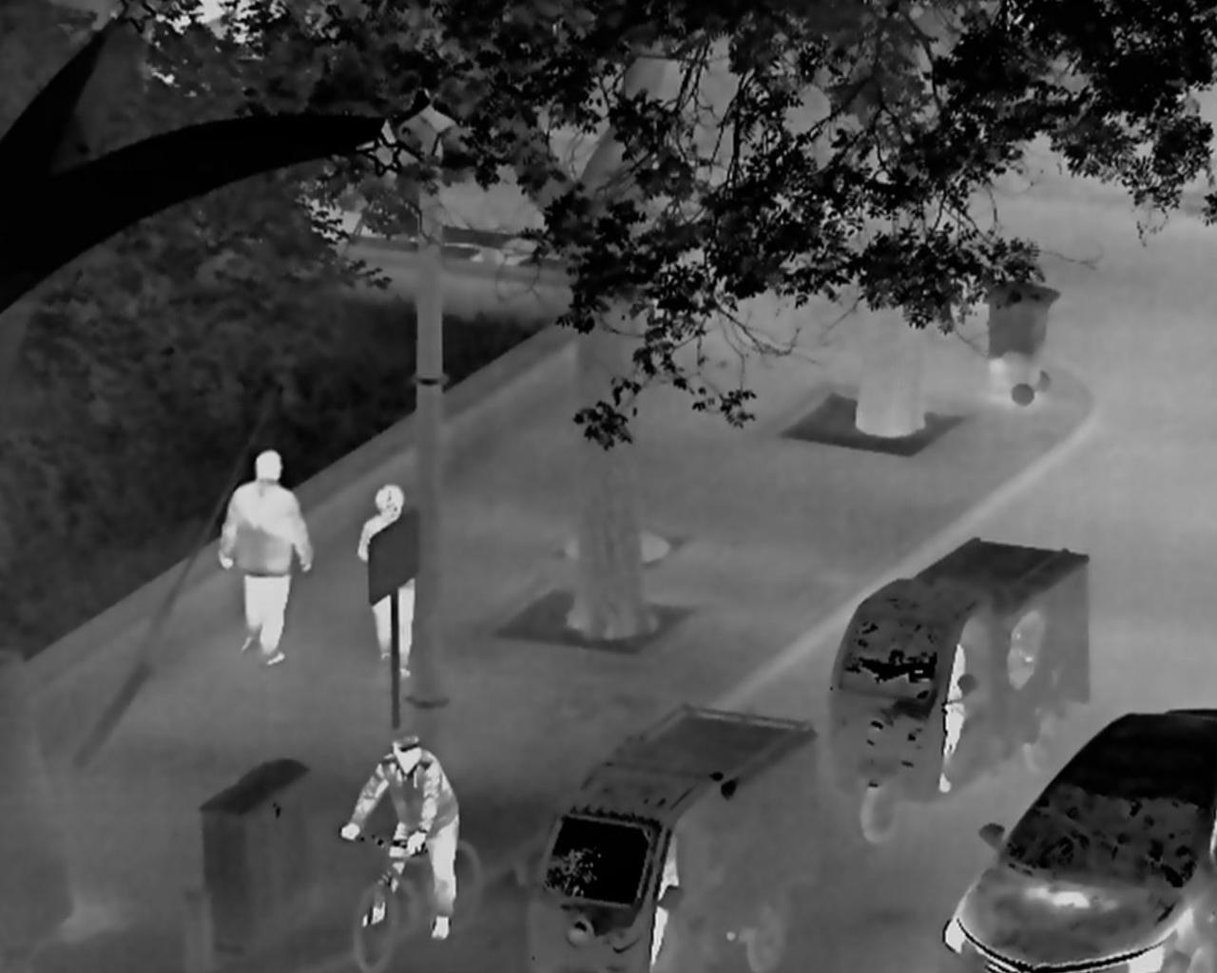person: (339, 729, 461, 940), (219, 448, 313, 666), (357, 483, 416, 677), (937, 641, 966, 794), (650, 832, 680, 966)
